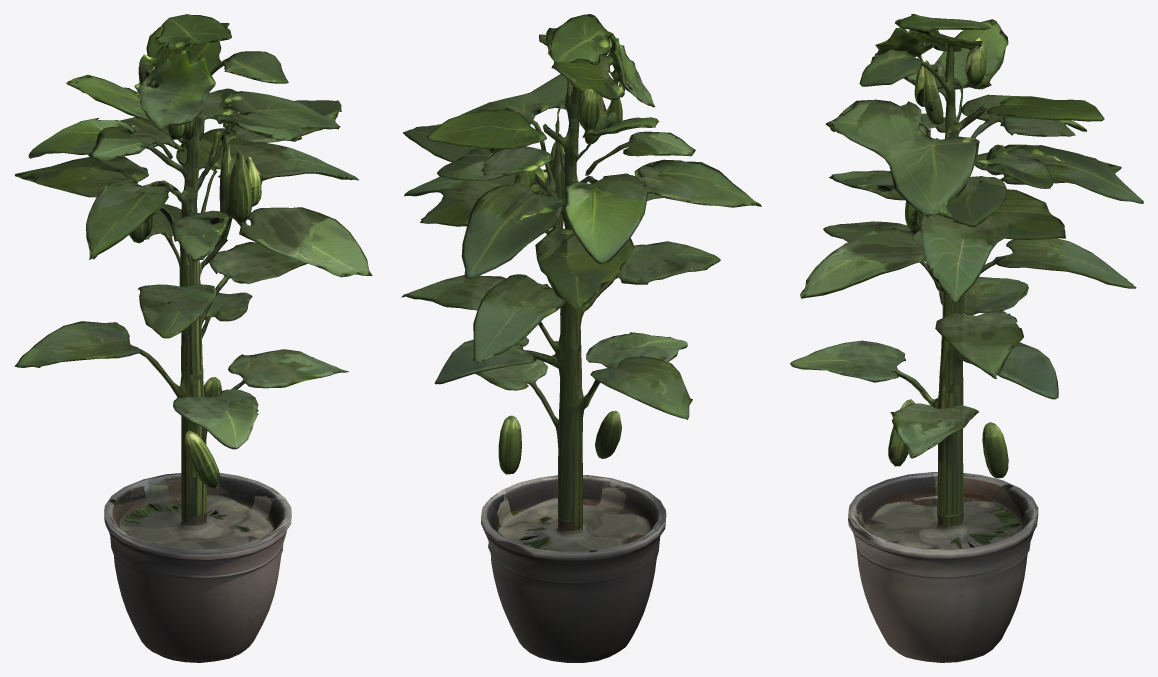
Rendered from okra2.glb.
3 renders of one model, left to right at view 1: azimuth 30°, elevation 25°; view 2: azimuth 150°, elevation 25°; view 3: azimuth 270°, elevation 25°, orthographic. The views are drawn at different scales.
Bounding box in the file's own units: 1.07 × 2 × 1.03.
Materials: 1 (1 with a texture image).
